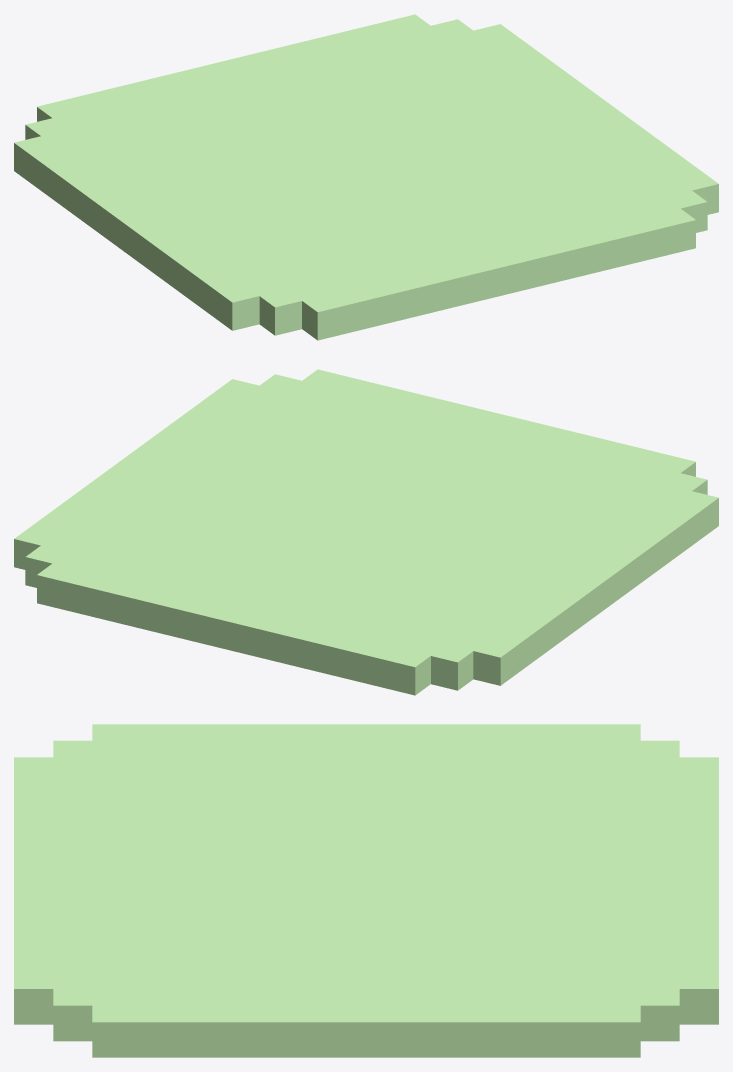
The model's file is active_box.dae.
3 views of the same model, one above another, from view 1: azimuth 30°, elevation 25°; view 2: azimuth 150°, elevation 25°; view 3: azimuth 270°, elevation 25° (orthographic). The views are drawn at different scales.
Parts seen in each view (by area): view 1: active_object; view 2: active_object; view 3: active_object.
Boxes of the visible parts, bbox=[...] form: active_object: bbox=[14, 14, 718, 340]; active_object: bbox=[14, 369, 718, 695]; active_object: bbox=[14, 724, 718, 1057].
Bounding box in the file's own units: 18 × 1 × 18.
1 material, 1 textured.
